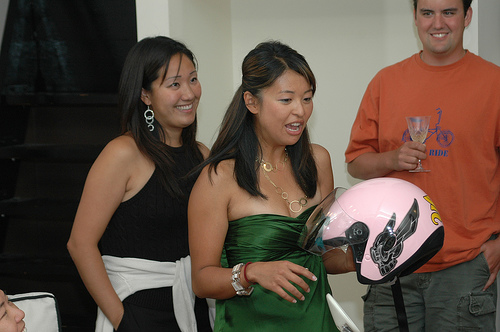helmet: (332, 177, 446, 291)
